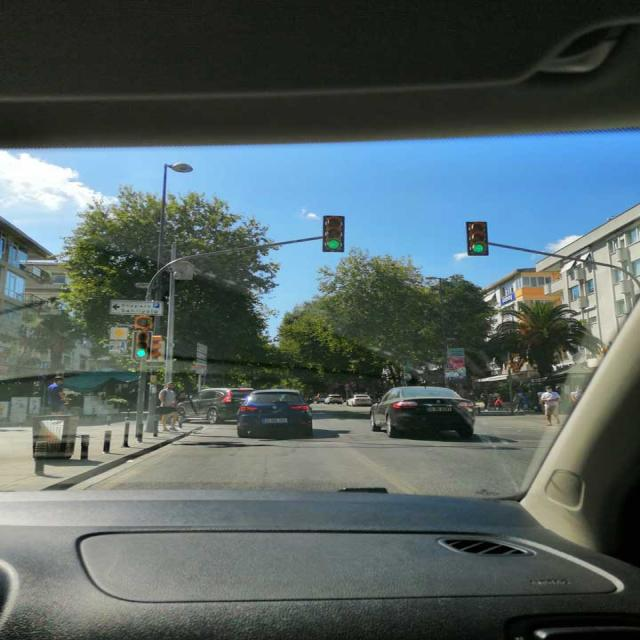yesil: (322, 215, 347, 252), (465, 221, 490, 256), (134, 330, 151, 360)
